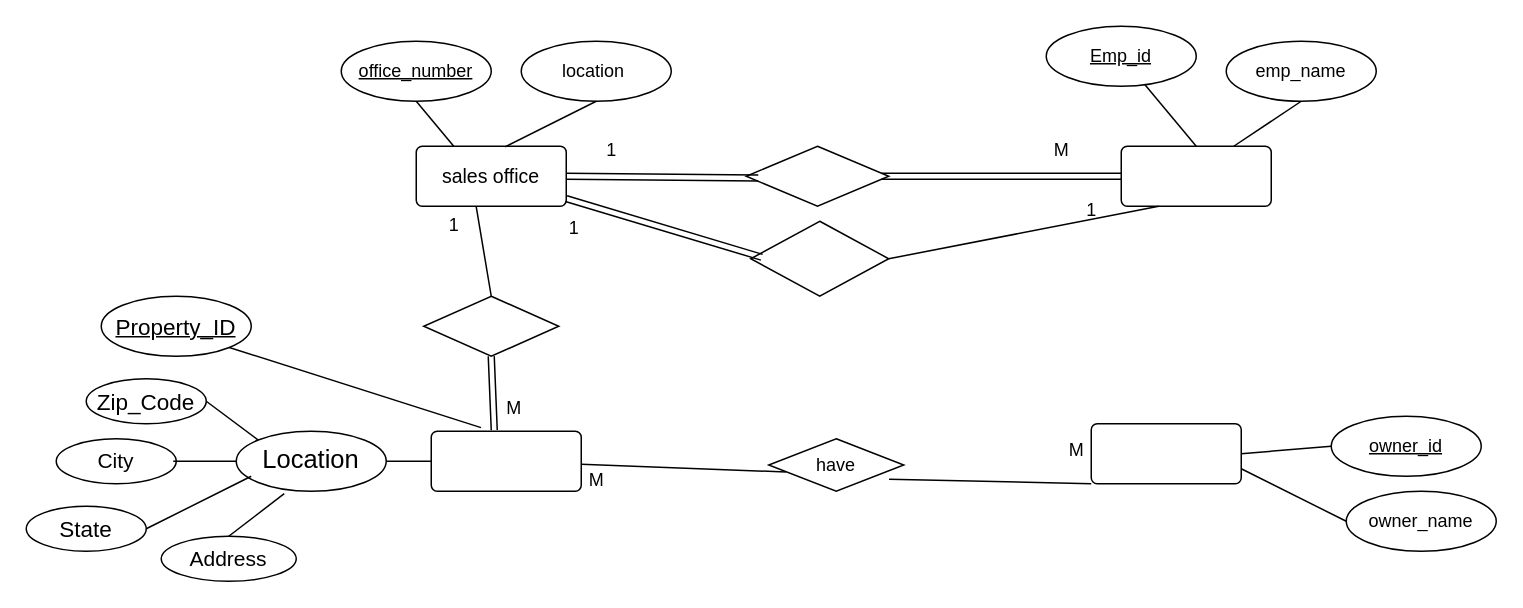
The diagram is 1523 pixels wide and 608 high, and some of its shapes have lost their labels. The shapes that lost their labels are listed below. From the top down, each one's centre as x and y in pixels, then its label:
the point at 817,175: assign
the point at 1195,175: employees
the point at 819,258: manage
the point at 490,325: list
the point at 505,460: property
the point at 1165,453: owner
